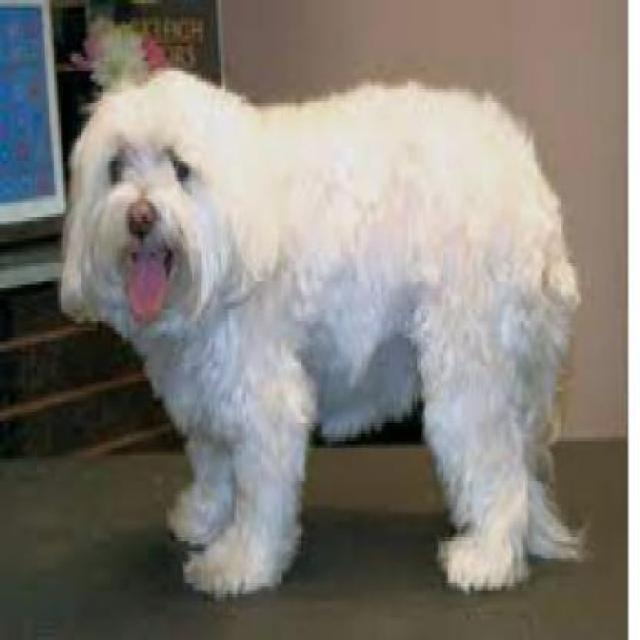Dog: (60, 69, 594, 605)
